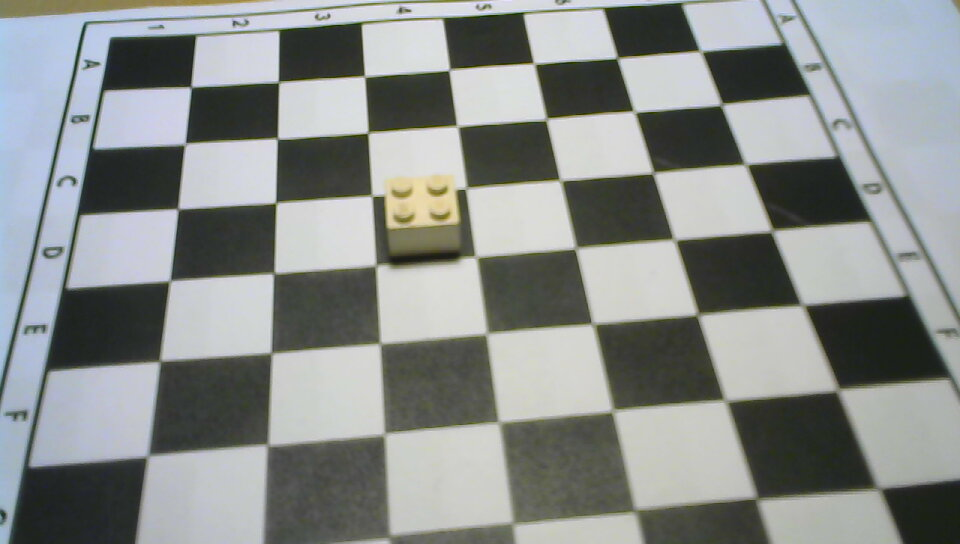wp: (373, 170, 476, 268)
